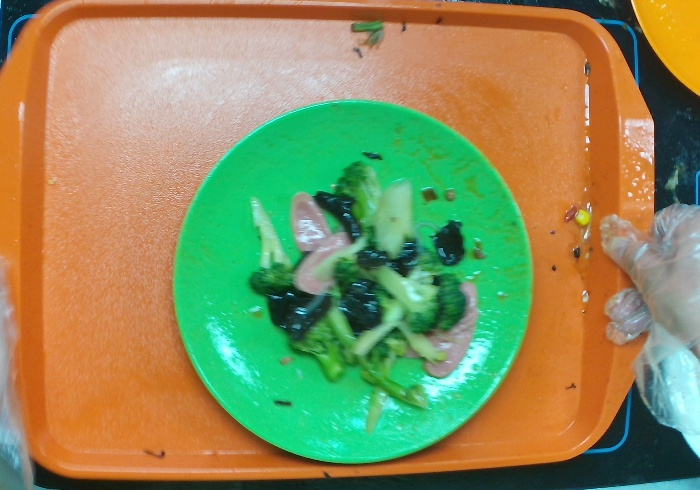HZYJPL-Lv_Se_Yuan_Pan: (168, 97, 535, 466)
